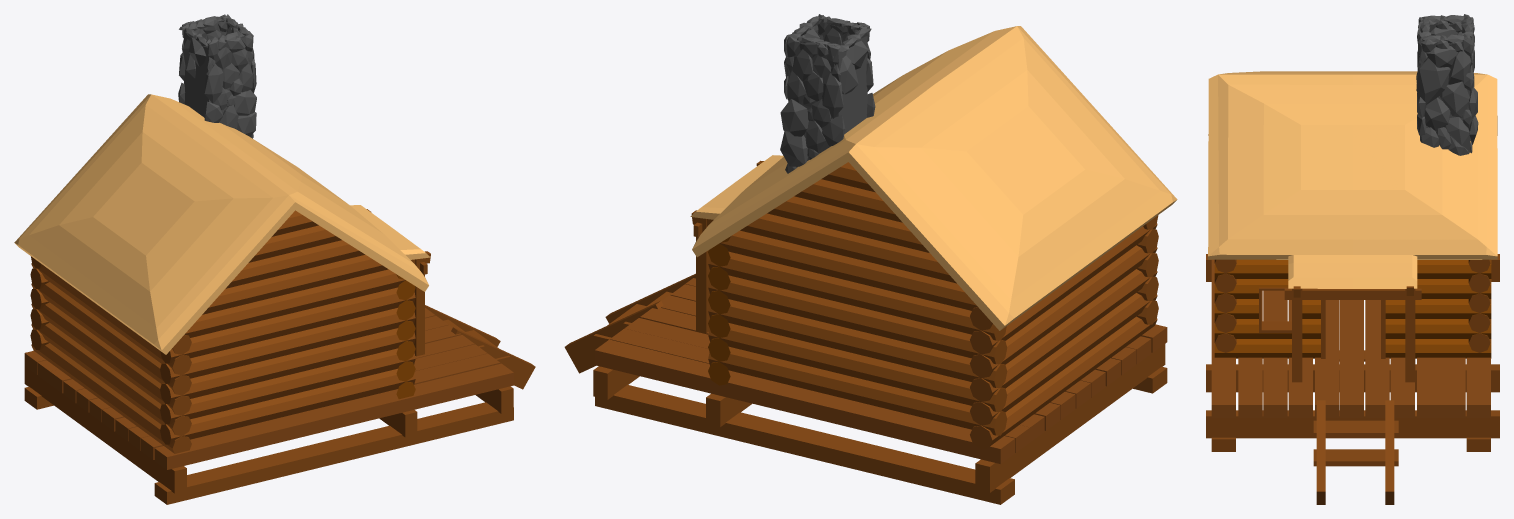
The model's file is cabin.fbx.
3 renders of one model, left to right at view 1: azimuth 30°, elevation 25°; view 2: azimuth 150°, elevation 25°; view 3: azimuth 270°, elevation 25°, orthographic. The views are drawn at different scales.
Visible parts, largest first — view 1: Plane.001, Cylinder.002, Cube.006, Cylinder.001, Cube.013, Cube.026, Cylinder.003, Cube.015, Cylinder, Cube.022; view 2: Plane.001, Cylinder, Cube.006, Cylinder.001, Cube.013, Cube.026, Cube.015, Cylinder.003, Cylinder.002, Cube.022; view 3: Plane.001, Cube.006, Cylinder.003, Cube.026, Cube.013, Cube.015, Cube.022, Cylinder.002, Cylinder, Cube.027, Cube.028.
Boxes of the visible parts, bbox=[...] form: Plane.001: bbox=[14, 94, 430, 354]; Cylinder.002: bbox=[160, 210, 415, 444]; Cube.006: bbox=[24, 308, 513, 469]; Cylinder.001: bbox=[31, 263, 191, 453]; Cube.013: bbox=[24, 366, 513, 504]; Cube.026: bbox=[178, 14, 256, 138]; Cylinder.003: bbox=[396, 274, 415, 399]; Cube.015: bbox=[425, 305, 535, 389]; Cylinder: bbox=[30, 256, 49, 349]; Cube.022: bbox=[367, 209, 430, 356]; Plane.001: bbox=[690, 26, 1177, 330]; Cylinder: bbox=[708, 162, 1007, 435]; Cube.006: bbox=[595, 278, 1167, 463]; Cylinder.001: bbox=[969, 223, 1157, 449]; Cube.013: bbox=[593, 344, 1167, 504]; Cube.026: bbox=[780, 14, 875, 173]; Cube.015: bbox=[564, 273, 695, 373]; Cylinder.003: bbox=[708, 236, 730, 385]; Cylinder.002: bbox=[1136, 215, 1158, 324]; Cube.022: bbox=[691, 160, 763, 334]; Plane.001: bbox=[1208, 71, 1497, 288]; Cube.006: bbox=[1211, 259, 1490, 417]; Cylinder.003: bbox=[1214, 259, 1491, 358]; Cube.026: bbox=[1416, 14, 1478, 155]; Cube.013: bbox=[1206, 254, 1499, 451]; Cube.015: bbox=[1313, 400, 1398, 504]; Cube.022: bbox=[1284, 286, 1421, 386]; Cylinder.002: bbox=[1214, 259, 1236, 352]; Cylinder: bbox=[1468, 259, 1490, 352]; Cube.027: bbox=[1321, 300, 1385, 361]; Cube.028: bbox=[1259, 287, 1291, 332].
Size of the model in its own units: 915 by 757 by 551.
